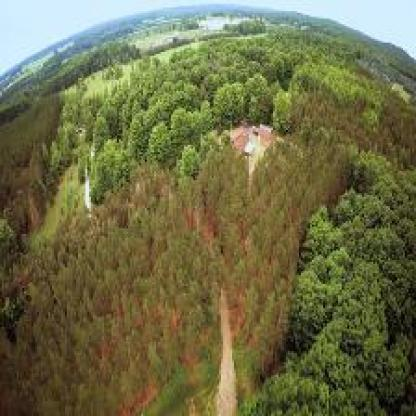other: (216, 282, 246, 404), (226, 115, 278, 174)
